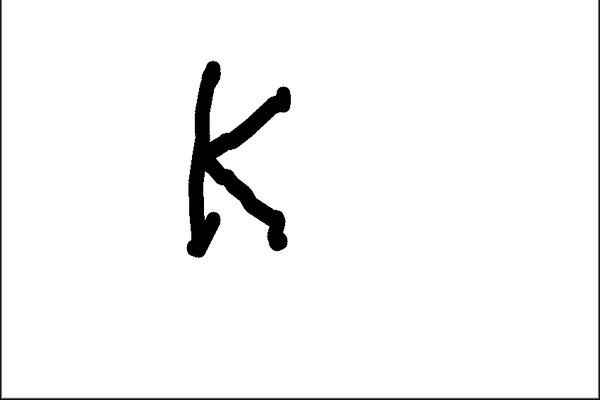K: (179, 55, 301, 268)
